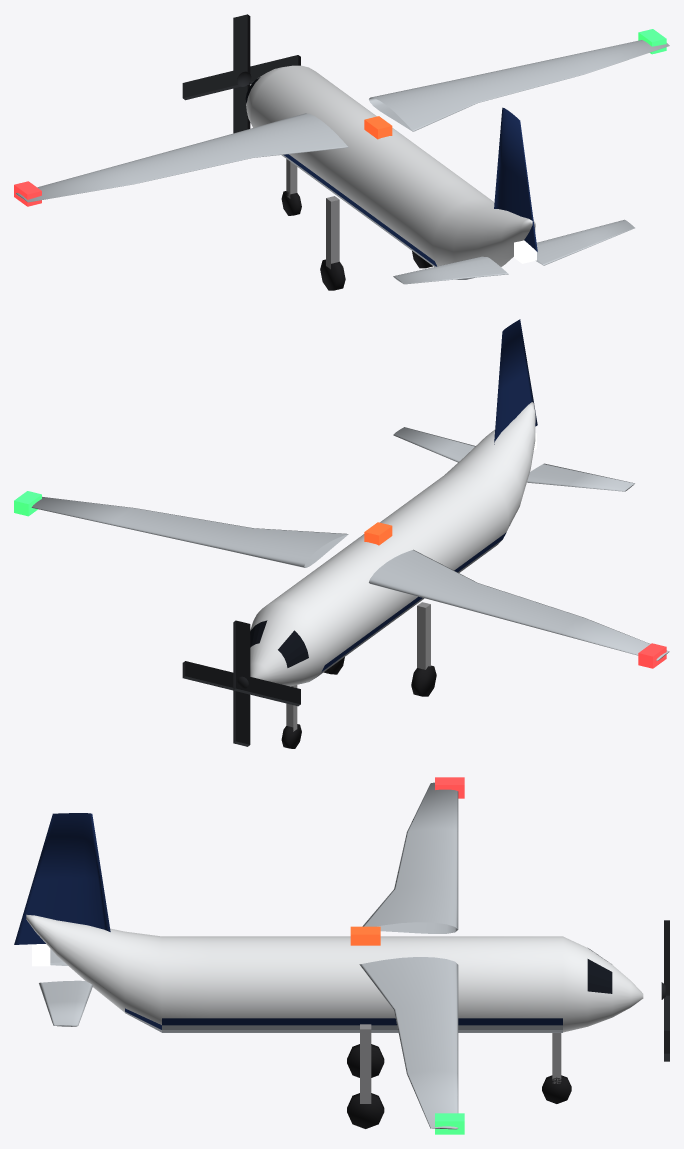
Rendered from fleet_light_lod0.glb.
3 views of the same model, one above another, from view 1: azimuth 30°, elevation 25°; view 2: azimuth 150°, elevation 25°; view 3: azimuth 270°, elevation 25° (orthographic). The views are drawn at different scales.
Parts seen in each view (by area): view 1: fleet_light_lod0_white, fleet_light_lod0_wing, fleet_light_lod0_blue, fleet_light_lod0_dark, fleet_light_lod0_metal, fleet_light_lod0_tyre, fleet_light_lod0_beacon, fleet_light_lod0_nav_red, fleet_light_lod0_nav_white; view 2: fleet_light_lod0_white, fleet_light_lod0_wing, fleet_light_lod0_dark, fleet_light_lod0_blue, fleet_light_lod0_metal, fleet_light_lod0_tyre, fleet_light_lod0_glass; view 3: fleet_light_lod0_white, fleet_light_lod0_wing, fleet_light_lod0_blue, fleet_light_lod0_belly, fleet_light_lod0_tyre, fleet_light_lod0_metal, fleet_light_lod0_dark, fleet_light_lod0_glass, fleet_light_lod0_beacon, fleet_light_lod0_nav_green.
Boxes of the visible parts, left/top/right/bottom form: fleet_light_lod0_white: left=246, top=65, right=535, bottom=266; fleet_light_lod0_wing: left=15, top=40, right=669, bottom=284; fleet_light_lod0_blue: left=283, top=107, right=537, bottom=266; fleet_light_lod0_dark: left=182, top=14, right=300, bottom=133; fleet_light_lod0_metal: left=286, top=159, right=339, bottom=269; fleet_light_lod0_tyre: left=281, top=191, right=432, bottom=290; fleet_light_lod0_beacon: left=364, top=116, right=392, bottom=139; fleet_light_lod0_nav_red: left=14, top=181, right=41, bottom=206; fleet_light_lod0_nav_white: left=514, top=240, right=536, bottom=263; fleet_light_lod0_white: left=250, top=402, right=535, bottom=686; fleet_light_lod0_wing: left=31, top=427, right=669, bottom=660; fleet_light_lod0_dark: left=182, top=620, right=300, bottom=746; fleet_light_lod0_blue: left=321, top=319, right=537, bottom=671; fleet_light_lod0_metal: left=286, top=602, right=430, bottom=731; fleet_light_lod0_tyre: left=281, top=657, right=436, bottom=748; fleet_light_lod0_glass: left=250, top=620, right=308, bottom=667; fleet_light_lod0_white: left=26, top=914, right=643, bottom=1032; fleet_light_lod0_wing: left=39, top=782, right=458, bottom=1129; fleet_light_lod0_blue: left=14, top=813, right=562, bottom=1029; fleet_light_lod0_belly: left=125, top=1012, right=562, bottom=1032; fleet_light_lod0_tyre: left=347, top=1044, right=571, bottom=1128; fleet_light_lod0_metal: left=360, top=1024, right=561, bottom=1103; fleet_light_lod0_dark: left=661, top=920, right=669, bottom=1061; fleet_light_lod0_glass: left=587, top=948, right=612, bottom=993; fleet_light_lod0_beacon: left=350, top=926, right=380, bottom=945; fleet_light_lod0_nav_green: left=435, top=1113, right=464, bottom=1134.
Size of the model in its own units: 11 by 4.28 by 8.83.
